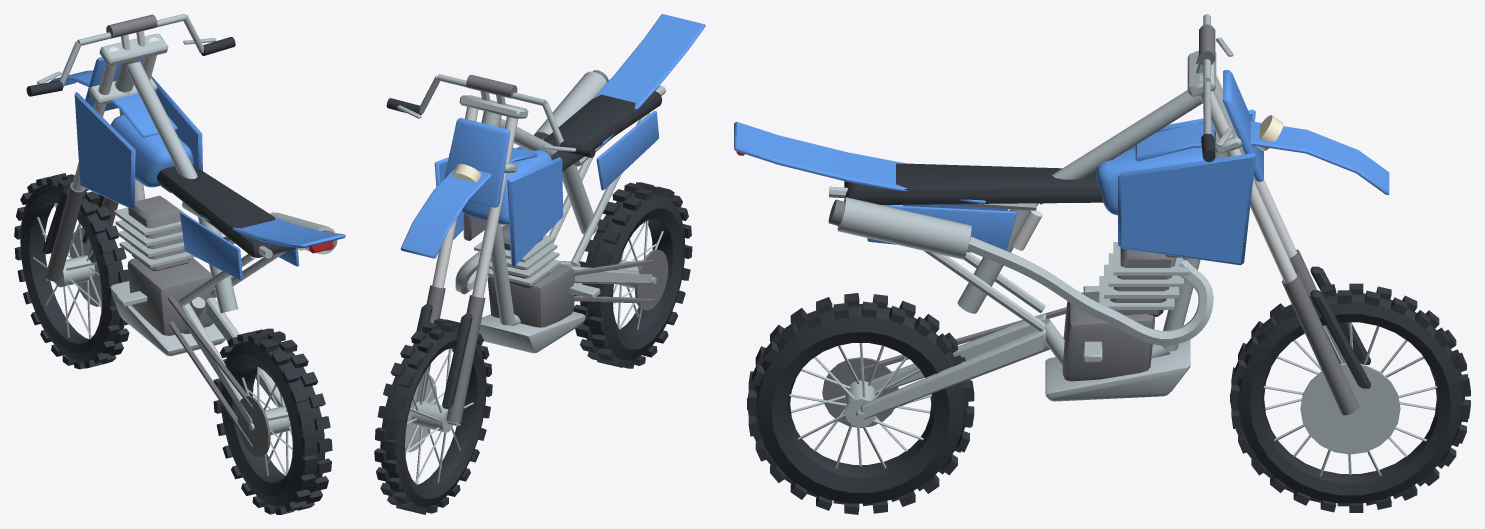
File: Scrambler.fbx
3 renders of one model, left to right at view 1: azimuth 30°, elevation 25°; view 2: azimuth 150°, elevation 25°; view 3: azimuth 270°, elevation 25°, orthographic. The views are drawn at different scales.
Parts seen in each view (by area): view 1: Body__metal, Body__paint, WheelRear__rubber, WheelFront__rubber, Body__engine, Body__rubber, Front__metal, Front__engine, WheelFront__metal, Front__paint, Front__rubber, WheelRear__metal (+2 smaller); view 2: Body__metal, Body__paint, WheelRear__rubber, WheelFront__rubber, Front__paint, Body__engine, Body__rubber, Front__engine, WheelFront__metal, Front__chrome, Front__metal, Front__rubber (+3 smaller); view 3: Body__metal, WheelRear__rubber, Body__paint, WheelFront__rubber, Body__rubber, Body__engine, WheelFront__metal, Front__paint, Front__engine, WheelRear__metal, Front__chrome, Front__rubber (+2 smaller).
Part boxes in pixels (x1,y1,x2,y2): Body__metal: [110, 59, 335, 430]; Body__paint: [74, 76, 345, 280]; WheelRear__rubber: [213, 328, 332, 514]; WheelFront__rubber: [14, 173, 129, 369]; Body__engine: [121, 185, 337, 448]; Body__rubber: [156, 164, 296, 257]; Front__metal: [37, 14, 216, 105]; Front__engine: [46, 14, 157, 281]; WheelFront__metal: [33, 203, 101, 339]; Front__paint: [49, 57, 177, 137]; Front__rubber: [26, 37, 235, 254]; WheelRear__metal: [242, 366, 292, 476]; Body__metal: [455, 71, 665, 353]; Body__paint: [434, 14, 705, 266]; WheelRear__rubber: [573, 182, 692, 368]; WheelFront__rubber: [374, 318, 492, 514]; Front__paint: [400, 118, 537, 258]; Body__engine: [463, 70, 653, 327]; Body__rubber: [543, 91, 662, 171]; Front__engine: [415, 75, 517, 423]; WheelFront__metal: [405, 348, 473, 484]; Front__chrome: [432, 96, 518, 297]; Front__metal: [397, 74, 576, 425]; Front__rubber: [386, 98, 595, 408]; Body__metal: [829, 77, 1232, 420]; WheelRear__rubber: [747, 293, 974, 514]; Body__paint: [734, 109, 1255, 265]; WheelFront__rubber: [1230, 283, 1470, 512]; Body__rubber: [844, 163, 1102, 204]; Body__engine: [828, 199, 1184, 415]; WheelFront__metal: [1263, 322, 1437, 476]; Front__paint: [1135, 69, 1389, 194]; Front__engine: [1199, 24, 1359, 415]; WheelRear__metal: [789, 343, 931, 468]; Front__chrome: [1199, 75, 1297, 282]; Front__rubber: [1201, 133, 1370, 388].
Size of the model in its own units: 0.9221 by 1.65 by 2.35.
